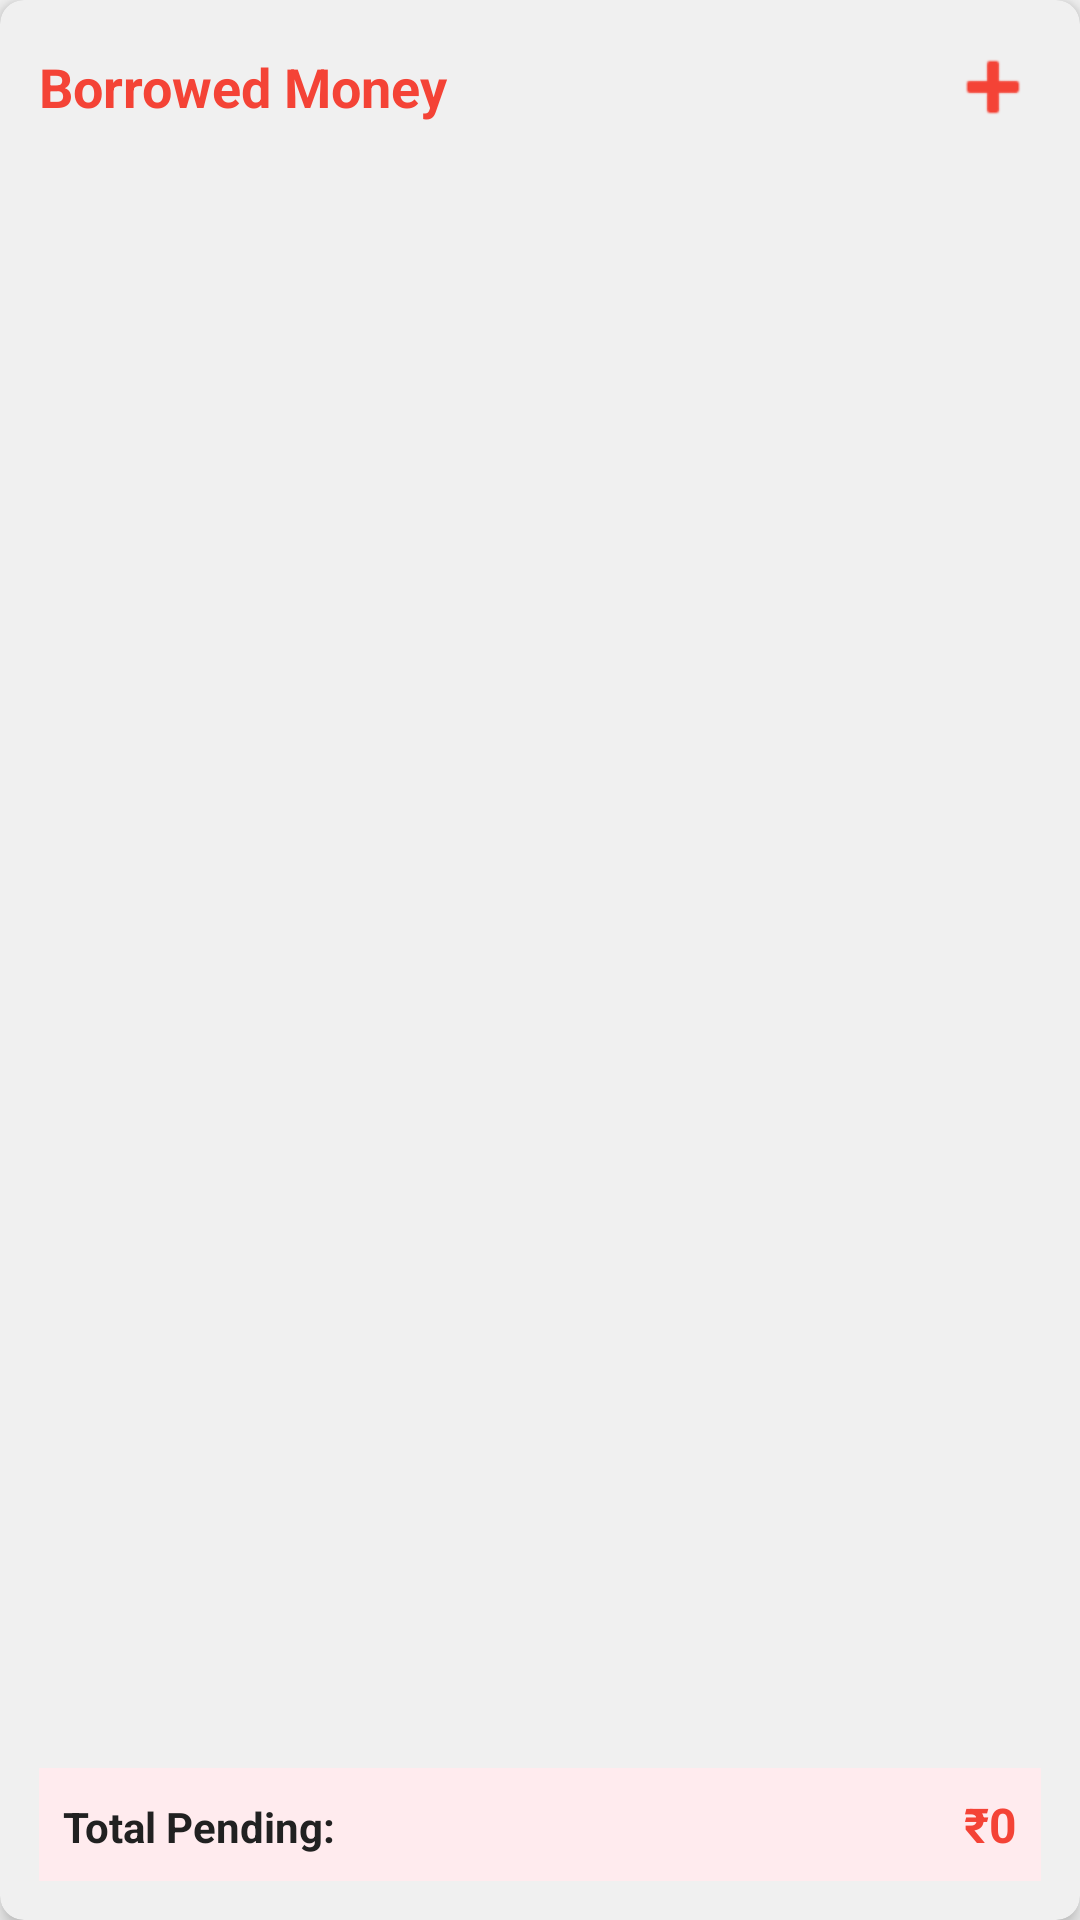

Where to tap for icons on this 1080w x 1920h app screen, as (x=x, y=y):
Add Borrowed: (x=993, y=87)
